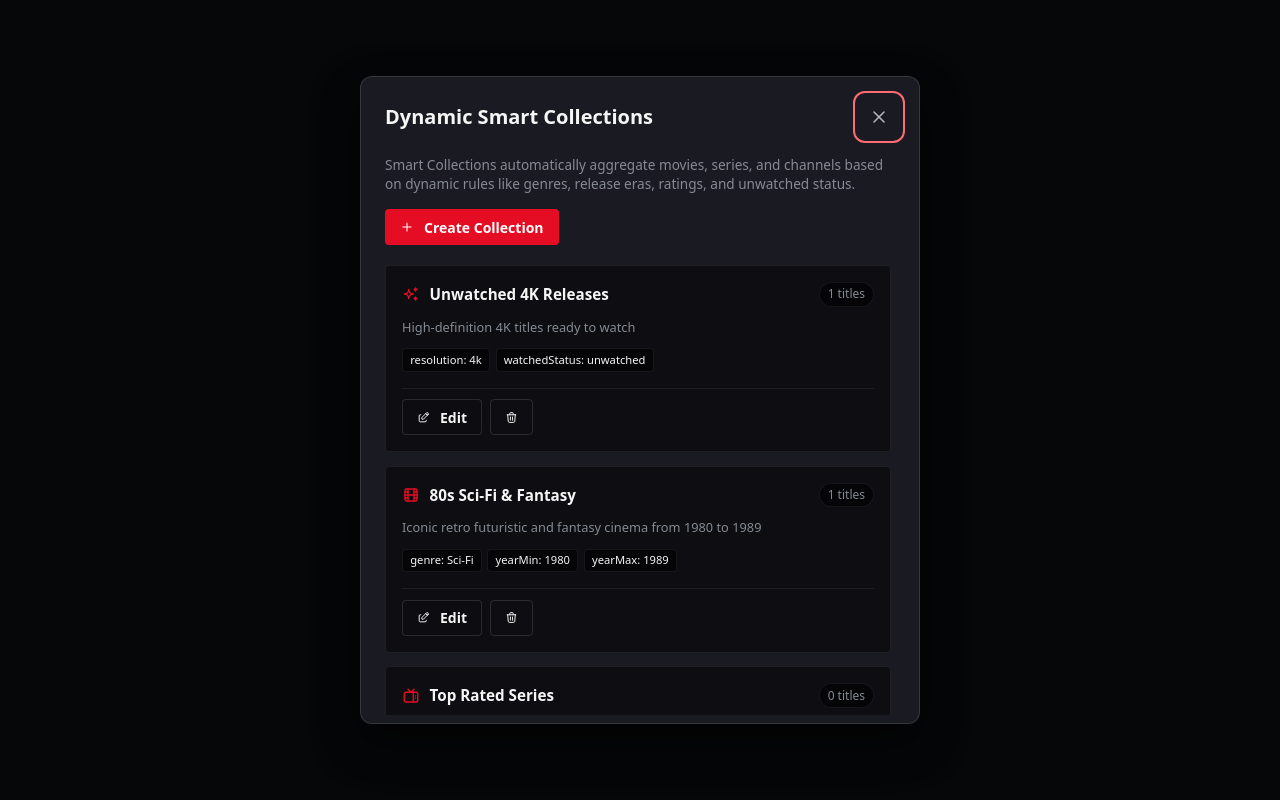
Test: SmartCollectionModal › opens create collection form when create button is clicked
Step 1. Click the button "Create Collection" → (472,227), box [385,209,558,245]
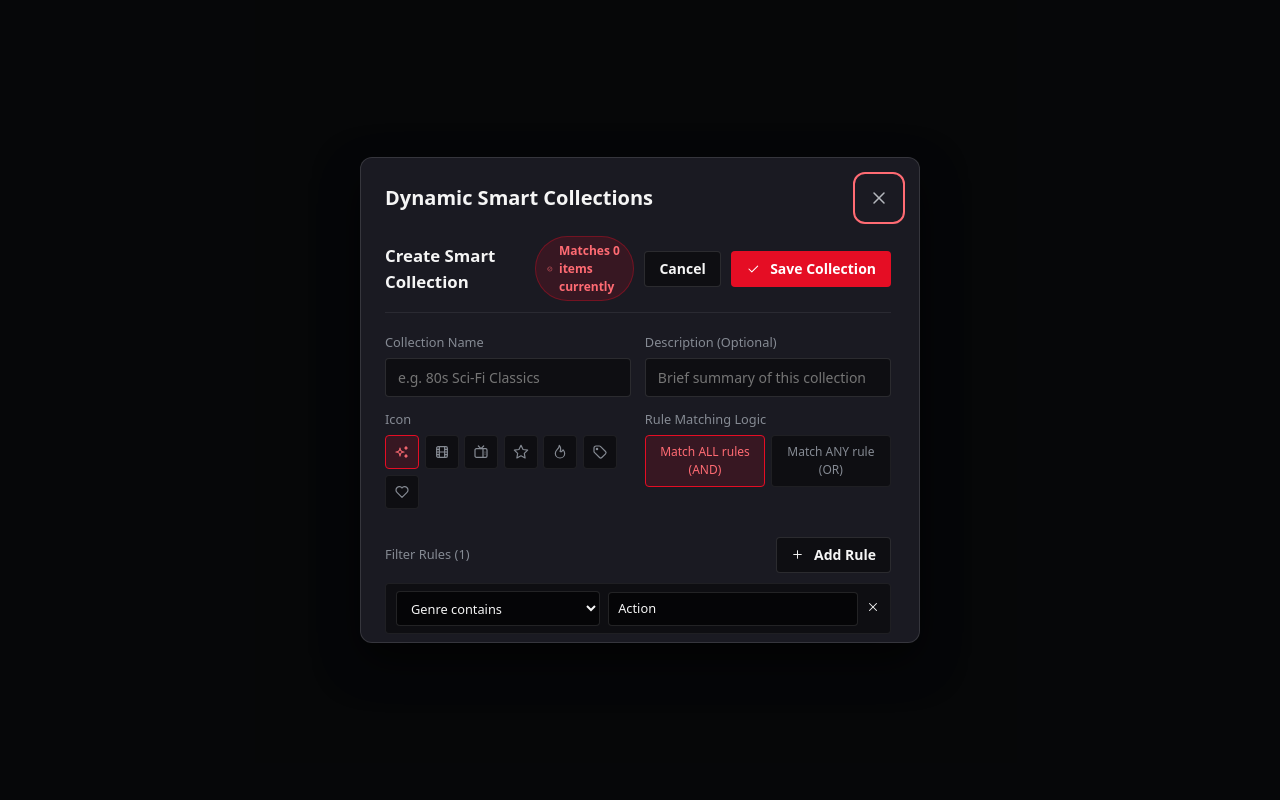
Now the text "Create Smart Collection" is shown, box [385,244,495,293]
Now the field labelled "Collection Name" is shown, box [385,358,631,397]
